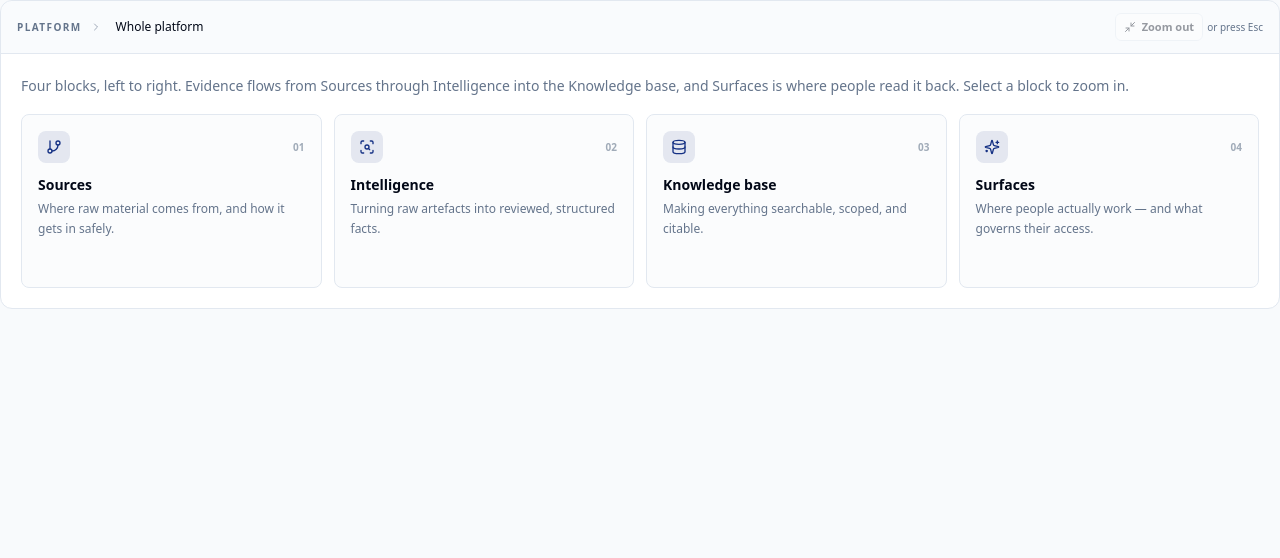
Scenario: ArchitectureExplorer › zooms from a block to its subsystems to the mechanism
Click the text "Knowledge base": (720, 184) [663,175,777,194]
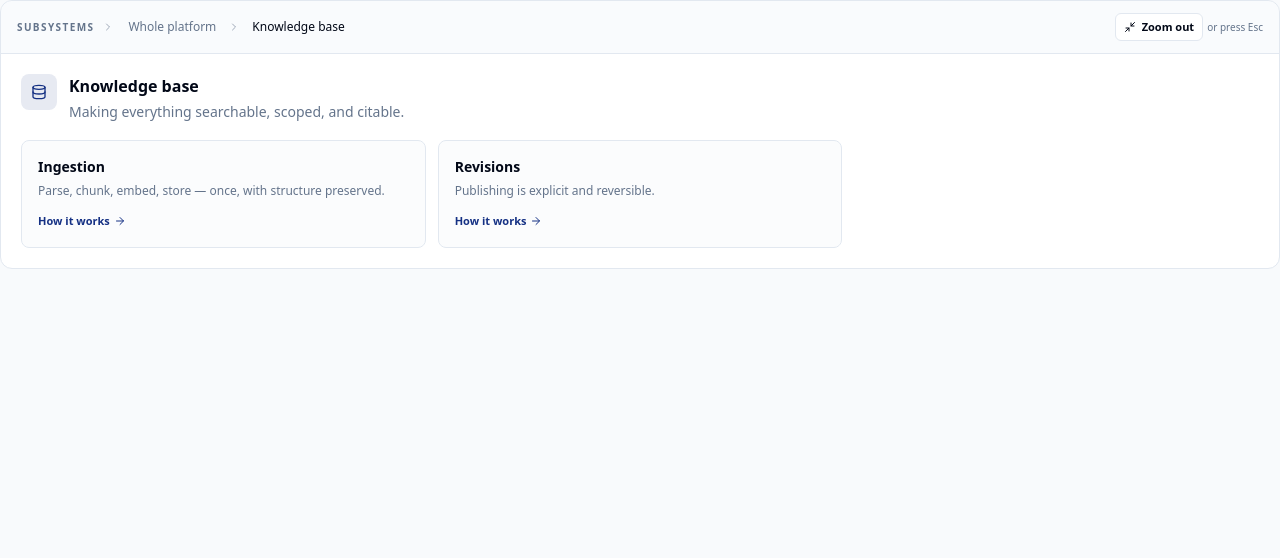
Now the text "Ingestion" is shown
Now the text "Revisions" is shown, box [455,157,520,176]
Click the text "Ingestion": (72, 166) [38,157,105,176]
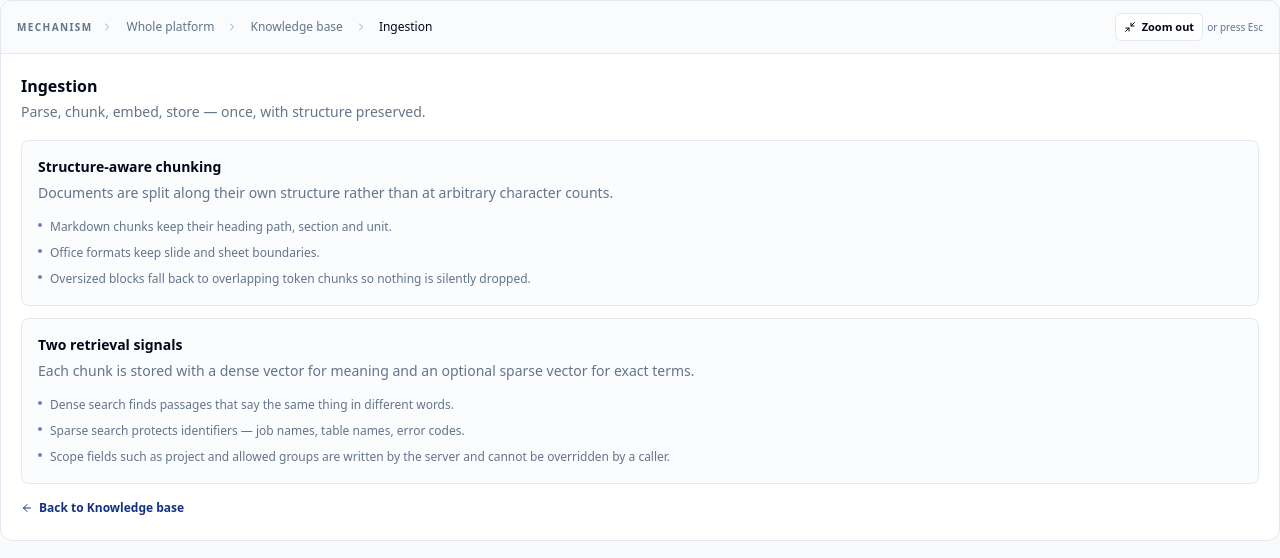
Now the heading "Structure-aware chunking" is shown, box [38,157,221,176]
Now the heading "Two retrieval signals" is shown, box [38,335,182,354]
